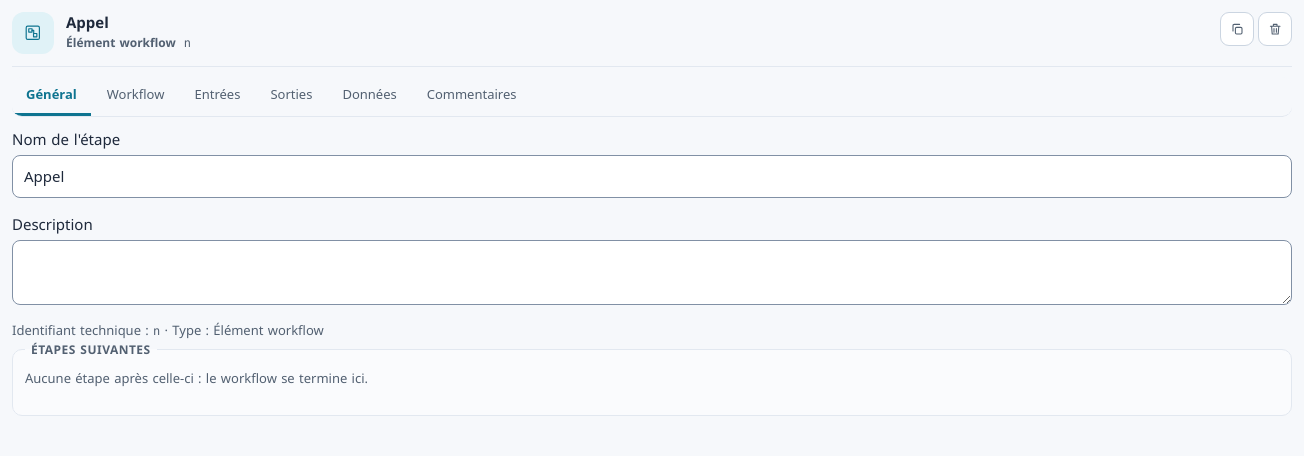
version du workflow appelé — étape subworkflow › une version épinglée absente du catalogue est montrée telle quelle, avec une alerte
Click the tab "Workflow": (136, 96) x1=93 y1=77 x2=178 y2=116
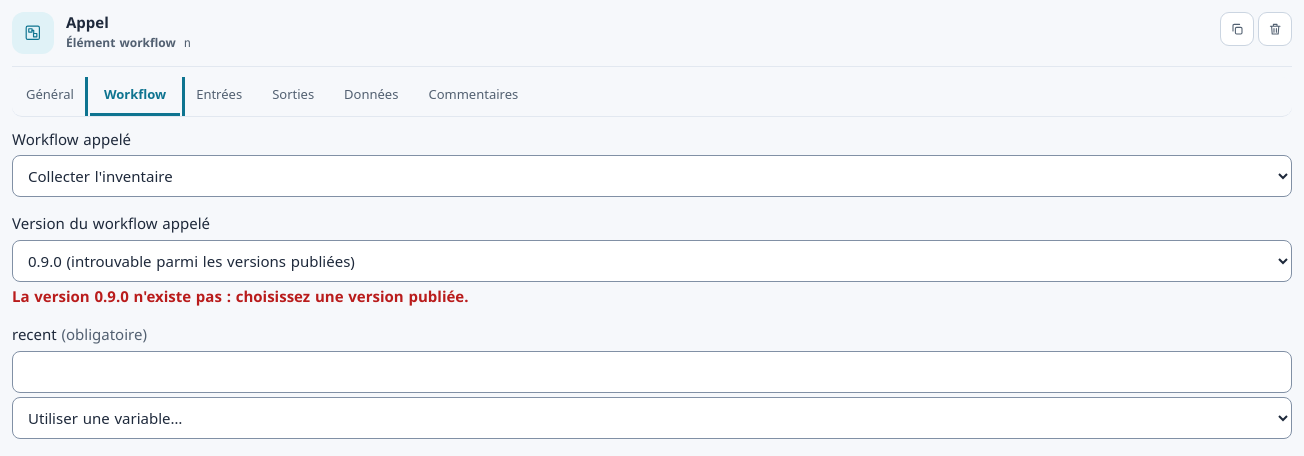
Result: the dropdown labelled "Version du workflow appelé" shows "0.9.0 (introuvable parmi les versions publiées)" at x1=12 y1=240 x2=1292 y2=282
Result: the message shows "La version 0.9.0 n'existe pas" at x1=12 y1=286 x2=468 y2=306
